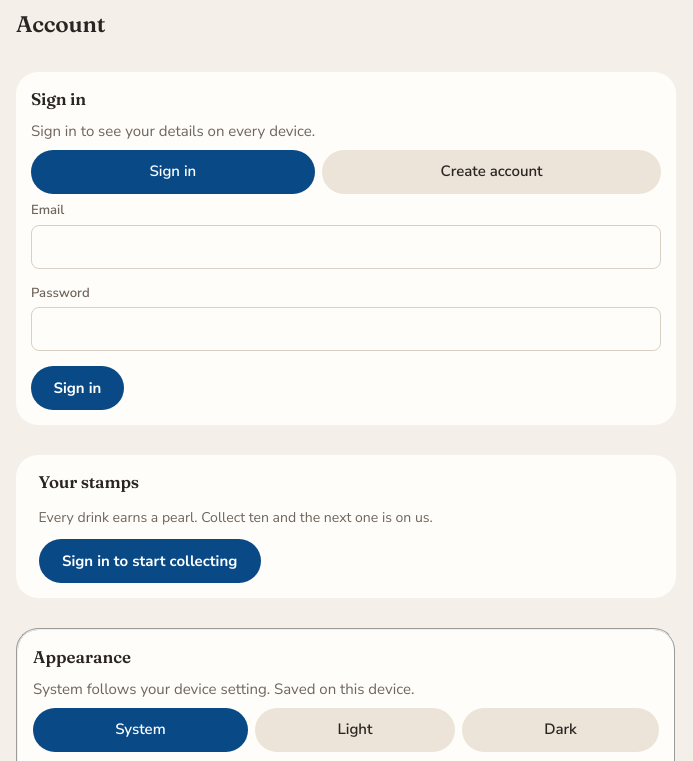
Test: AccountPage › signed out › shows the api message when the email is taken
Click the button "Create account".
click(492, 172)  # box [322,150,661,194]
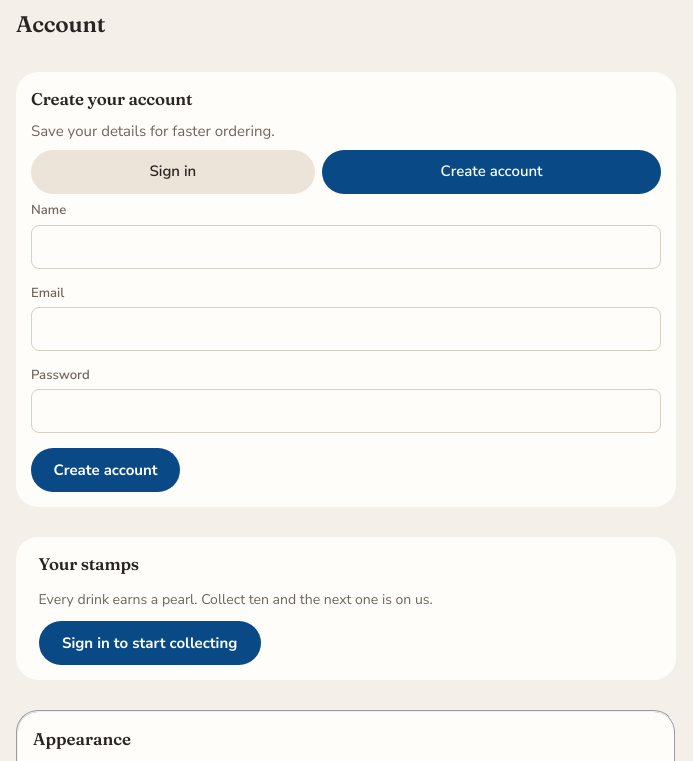
Type "Tristan" into the field labelled "Name".
click(346, 246); type("Tristan")  # box [31,224,661,268]
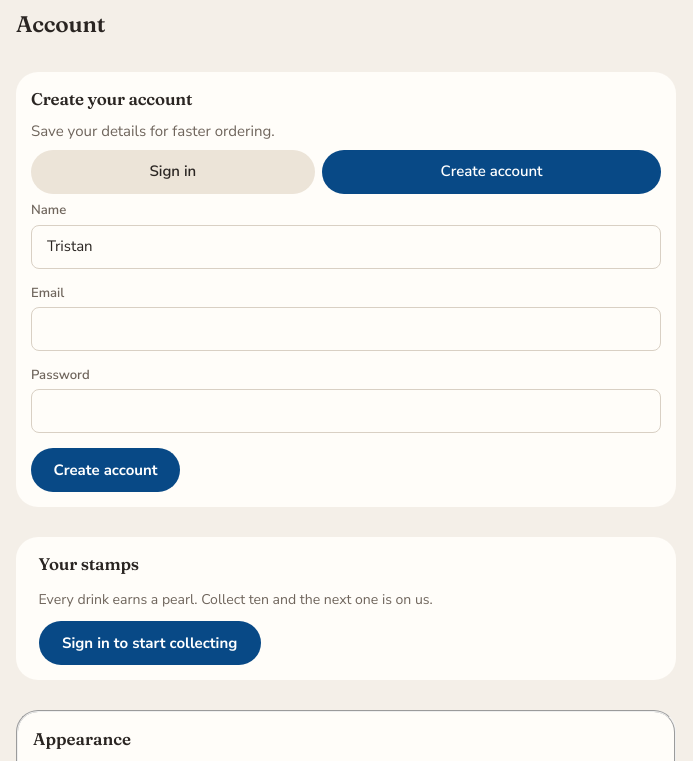
Type "tristan@example.com" into the field labelled "Email".
click(346, 329); type("tristan@example.com")  # box [31,307,661,351]
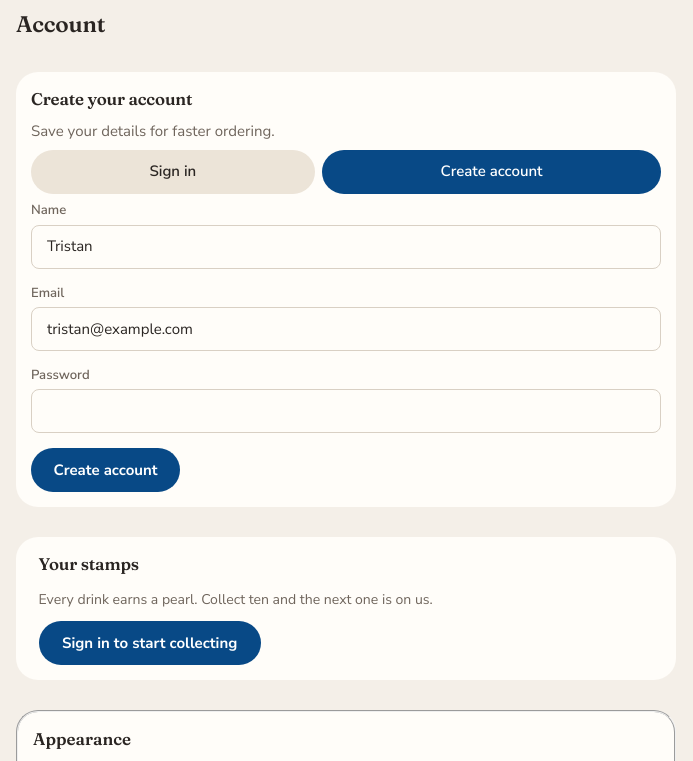
Type "correct horse" into the password field labelled "Password".
click(346, 411); type("correct horse")  # box [31,389,661,433]
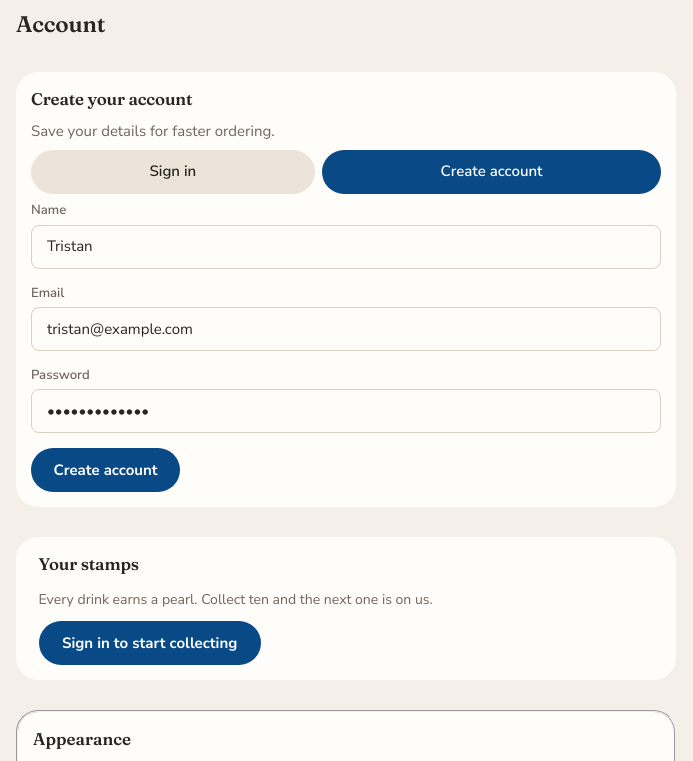
Submit the form from the button "Create account" below "Password", box [31,448,180,492]
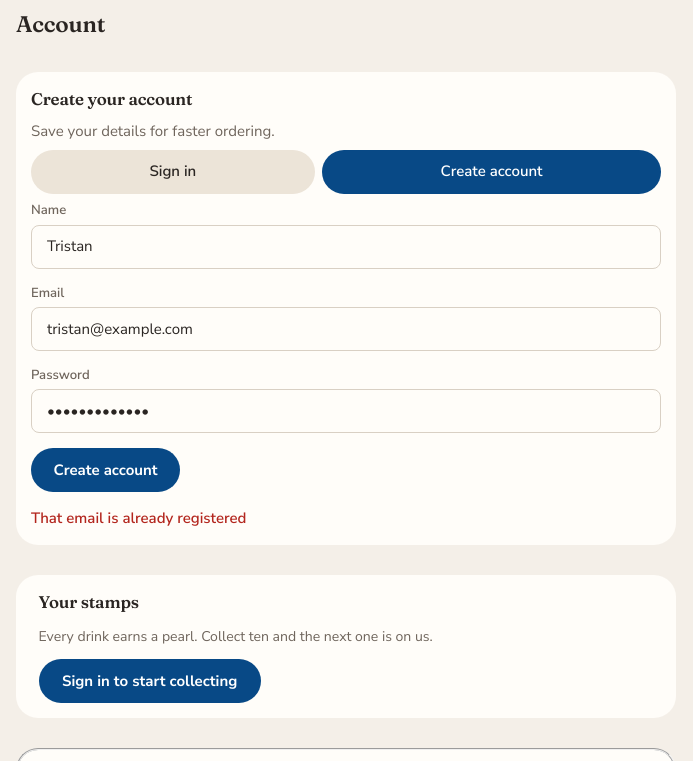
Expected: the message reads "That email is already registered", [31,508,246,528]
